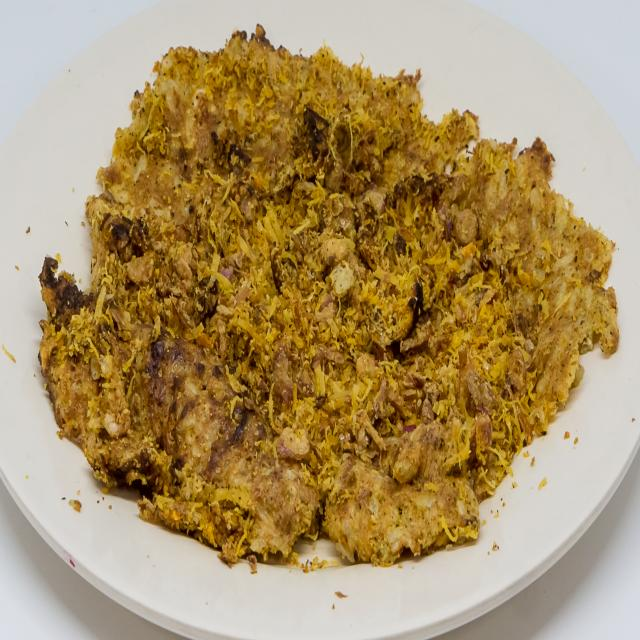Kerak-Telor: (35, 18, 624, 584)
